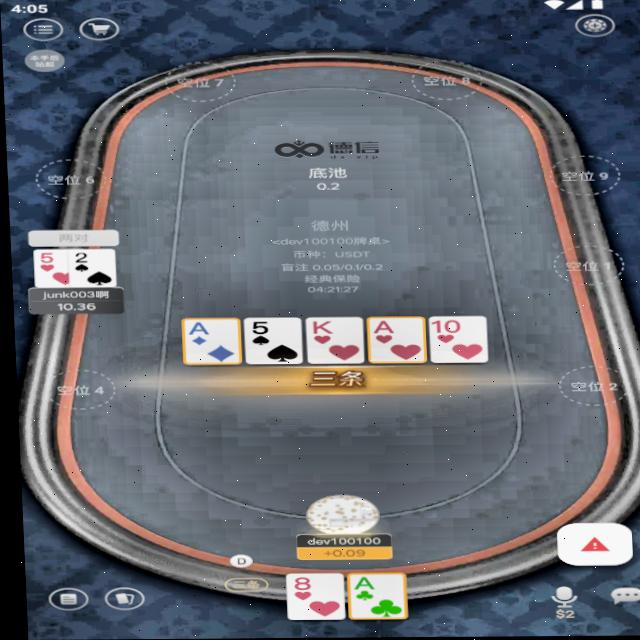10h: (428, 319, 459, 335)
2s: (69, 252, 89, 265)
5h: (34, 251, 55, 264)
5s: (245, 319, 270, 337)
8h: (283, 576, 312, 592)
Af: (181, 320, 211, 337)
Ah: (367, 318, 398, 335)
Am: (346, 575, 372, 592)
Kh: (303, 319, 336, 336)
